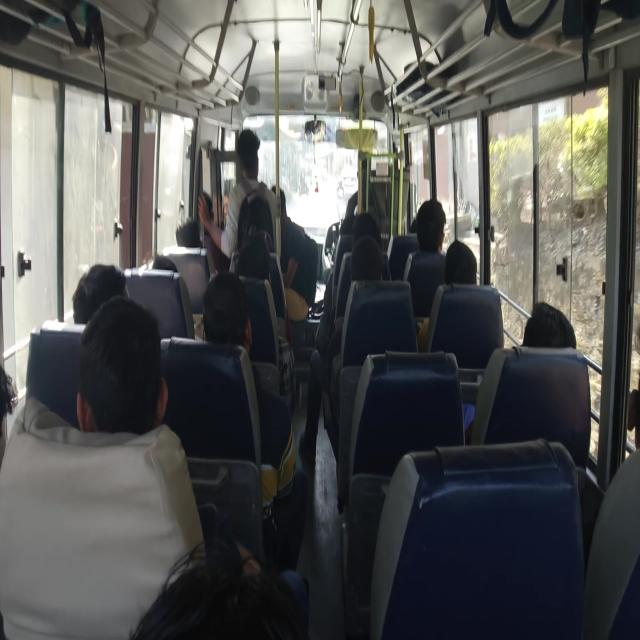person: (472, 302, 579, 458), (130, 543, 304, 638), (592, 352, 640, 628), (75, 296, 164, 438), (202, 127, 278, 271), (416, 237, 481, 354), (272, 187, 313, 318), (201, 271, 251, 353), (72, 263, 126, 326), (172, 206, 214, 282), (522, 301, 576, 351), (414, 198, 445, 255), (350, 233, 384, 283), (444, 238, 478, 286), (350, 211, 382, 251), (175, 214, 202, 249), (237, 129, 261, 164), (151, 256, 180, 274), (409, 216, 418, 234)
